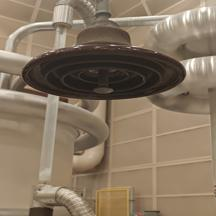insulator: (17, 13, 197, 114)
